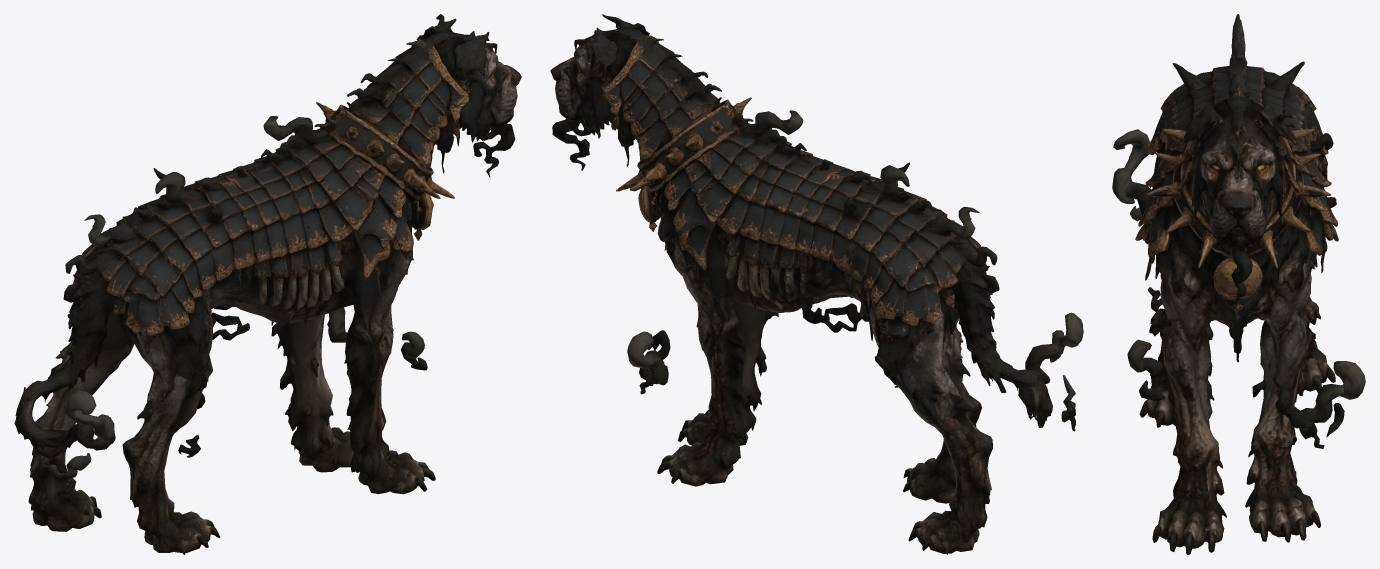
File: KhanHound-repaired.glb
3 views of the same model, side by side, from view 1: azimuth 30°, elevation 25°; view 2: azimuth 150°, elevation 25°; view 3: azimuth 270°, elevation 25° (orthographic). The views are drawn at different scales.
Parts seen in each view (by area): view 1: KhanHound_Repaired; view 2: KhanHound_Repaired; view 3: KhanHound_Repaired.
Boxes of the visible parts, x1,y1,x2,y2 form: KhanHound_Repaired: (14, 14, 521, 554); KhanHound_Repaired: (550, 14, 1083, 554); KhanHound_Repaired: (1112, 14, 1365, 554).
Size of the model in its own units: 0.9992 by 0.8006 by 0.3834.
1 material, 1 textured.
